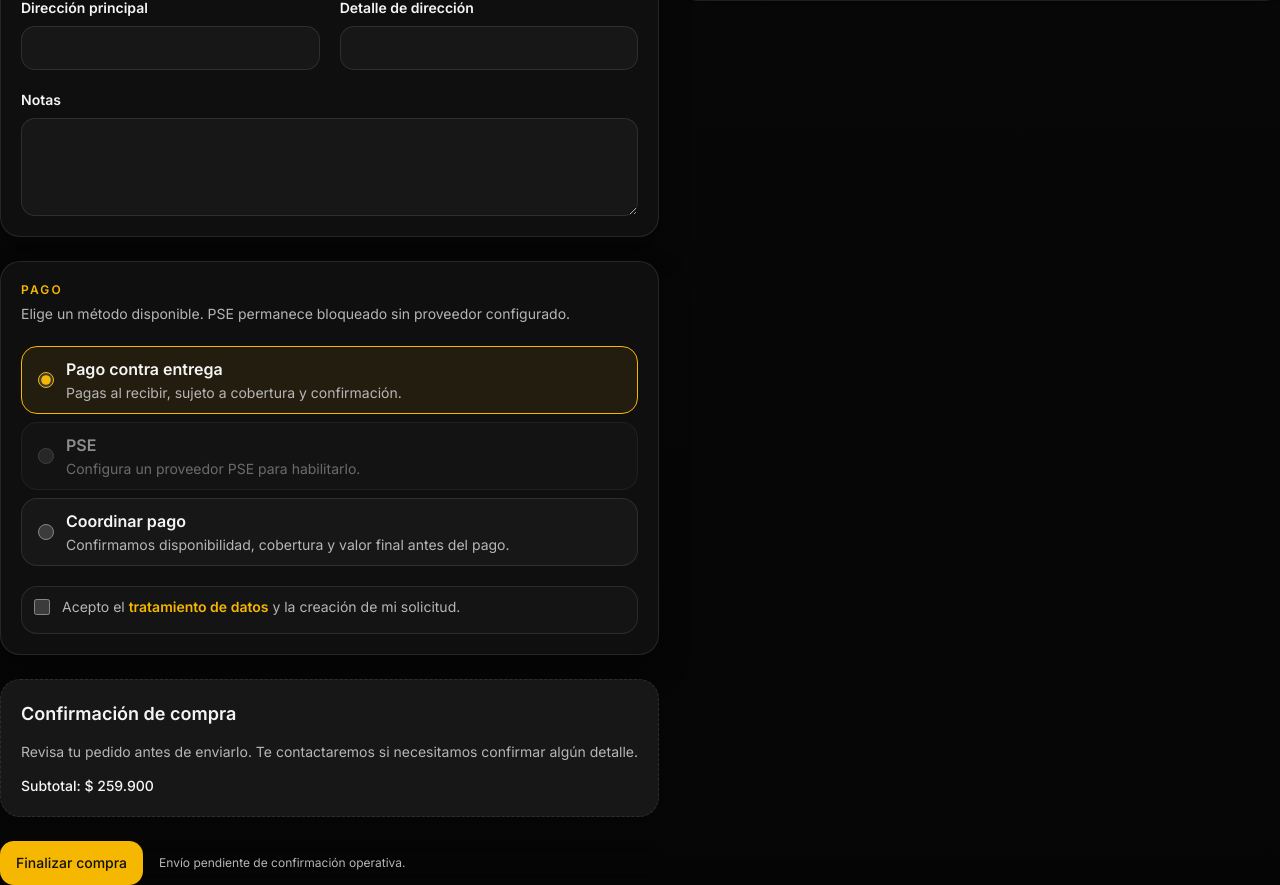
checkout storefront › validación de checkout inválido
(page scrolled)
Expected: the text "1" is not shown
Step 1. Click the button "Finalizar compra" → (72,863), box [0,841,143,884]
(page scrolled)
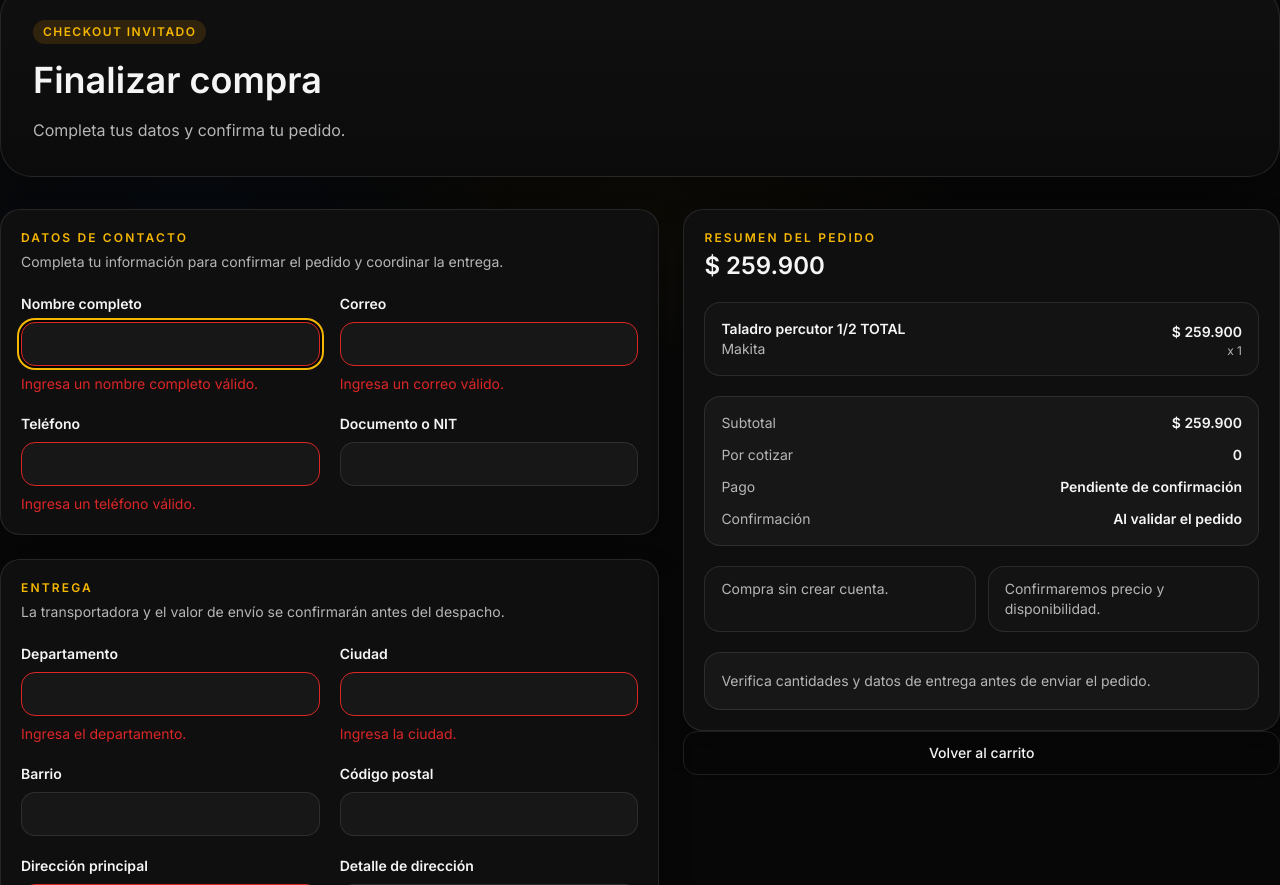
Now the text "Ingresa un nombre completo válido." is shown, box [21,375,258,392]
